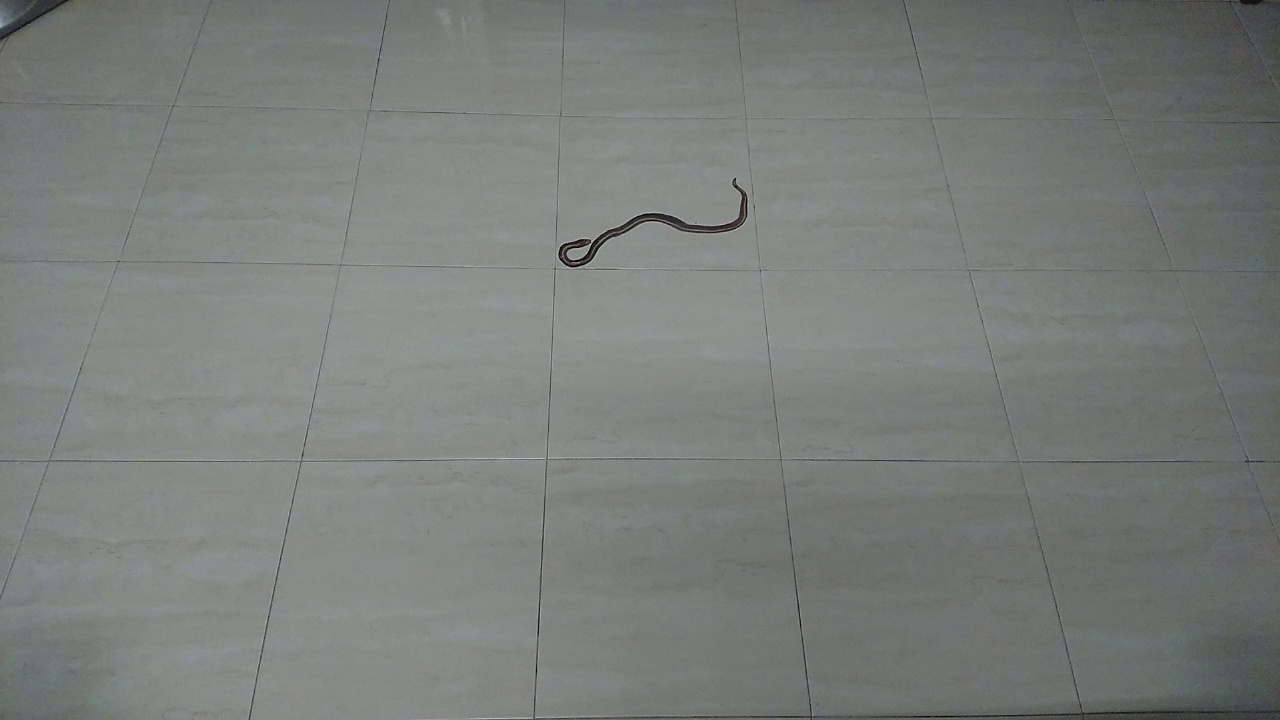snake: (542, 163, 766, 276)
